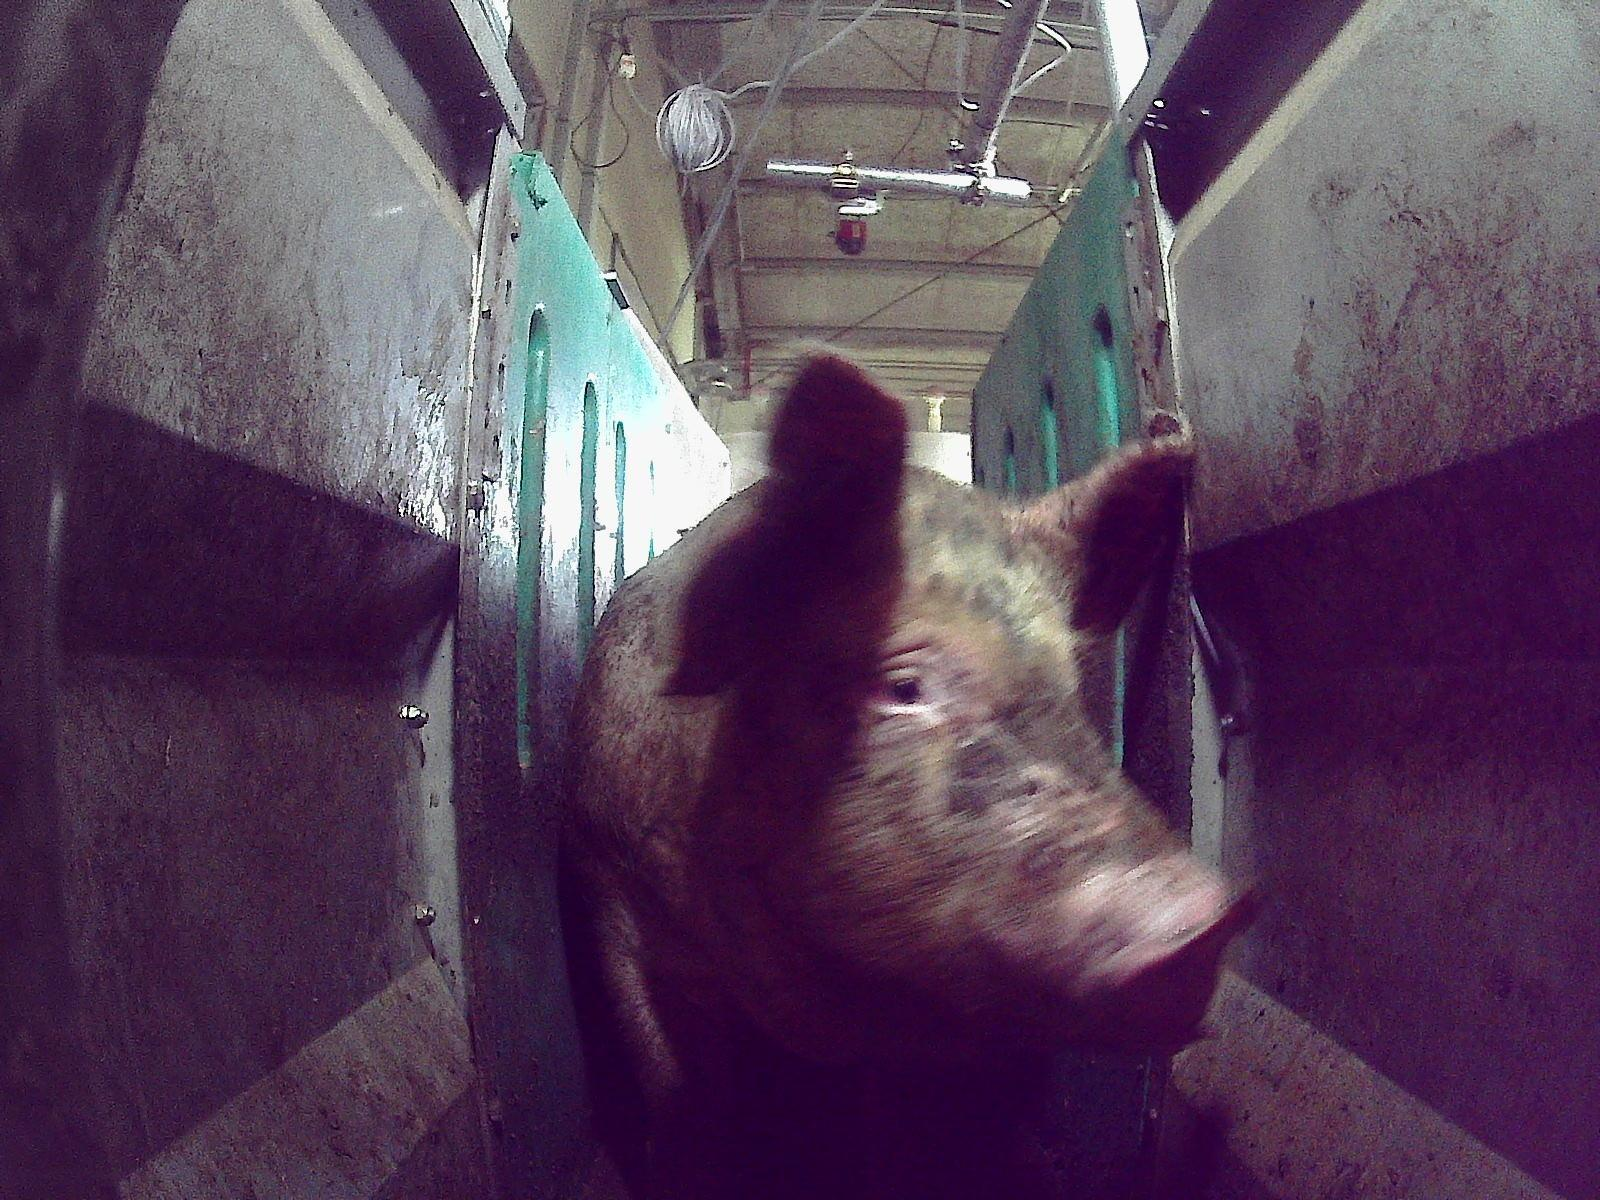Face: (720, 465, 1267, 1081)
